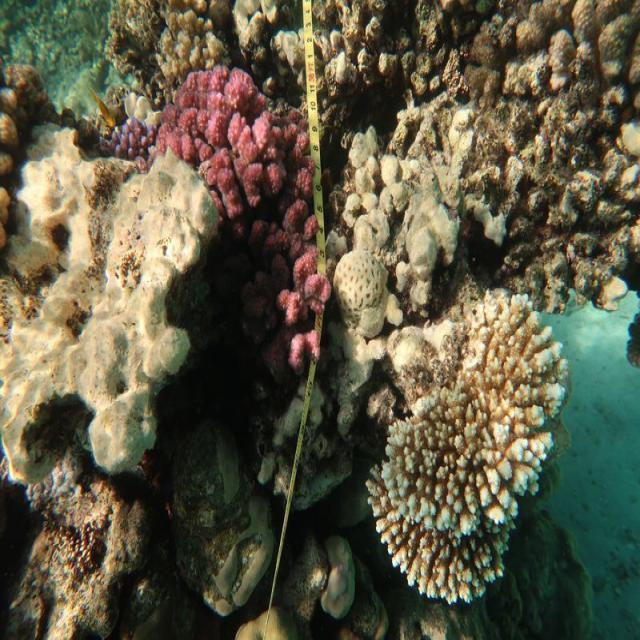Healthy Coral: (154, 64, 341, 376), (390, 325, 573, 591), (98, 120, 156, 170)
